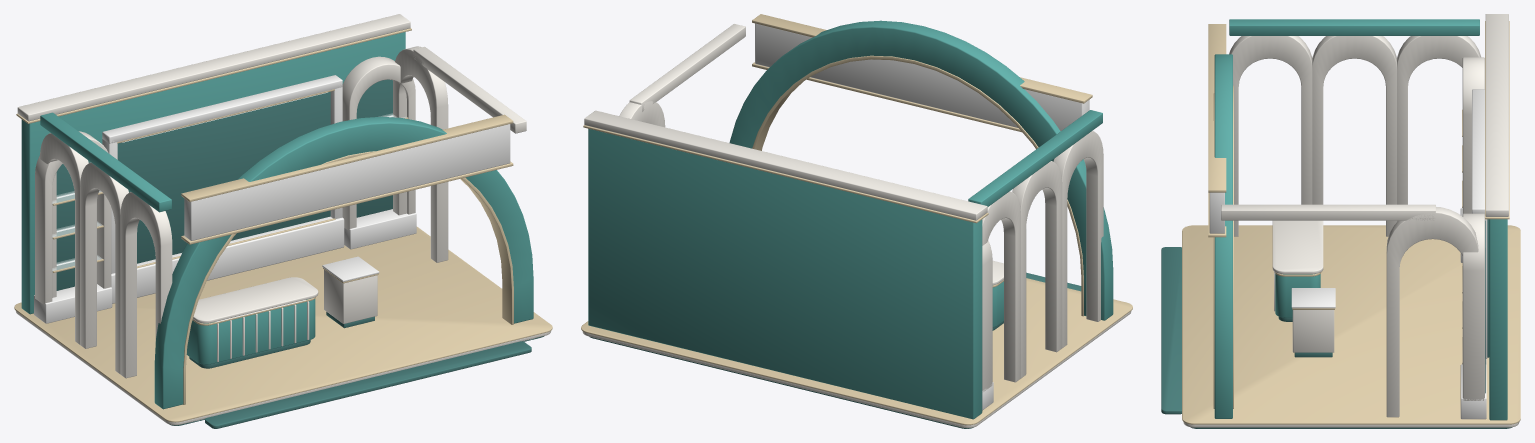
File: booth_05_gallery_arch_v4.glb
3 views of the same model, side by side, from view 1: azimuth 30°, elevation 25°; view 2: azimuth 150°, elevation 25°; view 3: azimuth 270°, elevation 25° (orthographic). The views are drawn at different scales.
Parts seen in each view (by area): view 1: Booth05_GalleryArch_Gallery_Satin_Brass, Booth05_GalleryArch_Gallery_Warm_Cream, Booth05_GalleryArch_Gallery_Jade_Teal, Booth05_GalleryArch_Gallery_Crisp_White, Booth05_GalleryArch_Gallery_Deep_Teal_Plinth, Booth05_GalleryArch_Gallery_Tempered_Glass; view 2: Booth05_GalleryArch_Gallery_Jade_Teal, Booth05_GalleryArch_Gallery_Warm_Cream, Booth05_GalleryArch_Gallery_Satin_Brass, Booth05_GalleryArch_Gallery_Crisp_White, Booth05_GalleryArch_Gallery_Deep_Teal_Plinth; view 3: Booth05_GalleryArch_Gallery_Satin_Brass, Booth05_GalleryArch_Gallery_Warm_Cream, Booth05_GalleryArch_Gallery_Jade_Teal, Booth05_GalleryArch_Gallery_Deep_Teal_Plinth, Booth05_GalleryArch_Gallery_Crisp_White.
Boxes of the visible parts, x1=… form: Booth05_GalleryArch_Gallery_Satin_Brass: x1=14, y1=28, x2=552, y2=422; Booth05_GalleryArch_Gallery_Warm_Cream: x1=16, y1=14, x2=550, y2=425; Booth05_GalleryArch_Gallery_Jade_Teal: x1=21, y1=32, x2=533, y2=409; Booth05_GalleryArch_Gallery_Crisp_White: x1=34, y1=75, x2=510, y2=323; Booth05_GalleryArch_Gallery_Deep_Teal_Plinth: x1=56, y1=79, x2=544, y2=428; Booth05_GalleryArch_Gallery_Tempered_Glass: x1=52, y1=113, x2=406, y2=272; Booth05_GalleryArch_Gallery_Jade_Teal: x1=588, y1=20, x2=1113, y2=419; Booth05_GalleryArch_Gallery_Warm_Cream: x1=582, y1=24, x2=1131, y2=428; Booth05_GalleryArch_Gallery_Satin_Brass: x1=581, y1=14, x2=1132, y2=425; Booth05_GalleryArch_Gallery_Crisp_White: x1=755, y1=23, x2=1089, y2=410; Booth05_GalleryArch_Gallery_Deep_Teal_Plinth: x1=589, y1=272, x2=1081, y2=428; Booth05_GalleryArch_Gallery_Satin_Brass: x1=1182, y1=21, x2=1520, y2=424; Booth05_GalleryArch_Gallery_Warm_Cream: x1=1183, y1=14, x2=1519, y2=427; Booth05_GalleryArch_Gallery_Jade_Teal: x1=1214, y1=19, x2=1507, y2=420; Booth05_GalleryArch_Gallery_Deep_Teal_Plinth: x1=1161, y1=219, x2=1511, y2=428; Booth05_GalleryArch_Gallery_Crisp_White: x1=1209, y1=89, x2=1487, y2=419.
Size of the model in its own units: 7.2 by 4.36 by 5.52.
